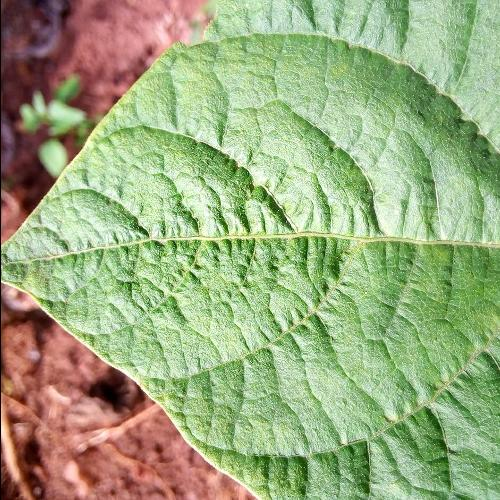sehat: (132, 86, 500, 359)
